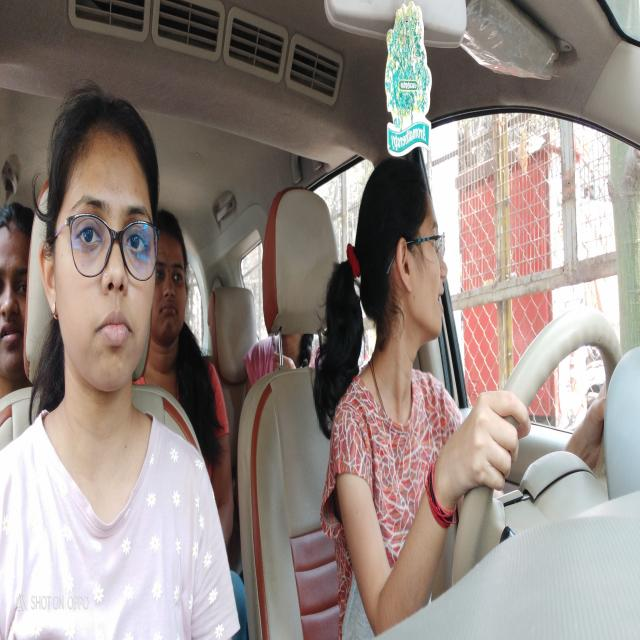LeftRight: (351, 150, 451, 360)
person: (38, 83, 162, 400), (0, 199, 33, 388), (159, 205, 195, 346)
